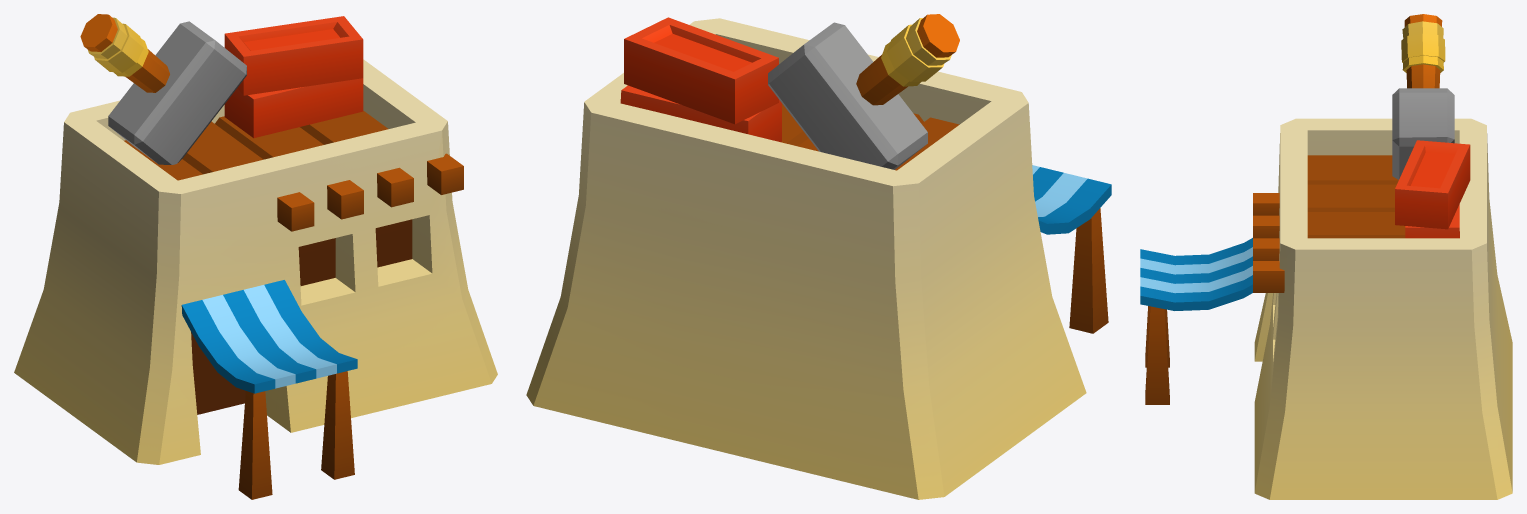
File: Structure_Builder_House_01.fbx
3 renders of one model, left to right at view 1: azimuth 30°, elevation 25°; view 2: azimuth 150°, elevation 25°; view 3: azimuth 270°, elevation 25°, orthographic. The views are drawn at different scales.
Parts seen in each view (by area): view 1: Structure_Builder_House_01; view 2: Structure_Builder_House_01; view 3: Structure_Builder_House_01.
Part boxes in pixels (bbox=[...]): Structure_Builder_House_01: bbox=[14, 14, 497, 499]; Structure_Builder_House_01: bbox=[526, 14, 1111, 499]; Structure_Builder_House_01: bbox=[1140, 14, 1512, 499].
Bounding box in the file's own units: 600 × 594 × 577.
